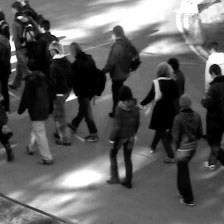person: (140, 62, 178, 164), (19, 59, 54, 166), (171, 94, 201, 207), (108, 85, 138, 190), (69, 41, 98, 143), (46, 41, 72, 146), (102, 24, 130, 118), (203, 63, 224, 173), (9, 3, 26, 88), (167, 58, 185, 130), (37, 19, 58, 70), (205, 43, 224, 99), (19, 10, 36, 68), (1, 79, 13, 160), (1, 35, 11, 112), (1, 9, 10, 37), (13, 1, 33, 10)
